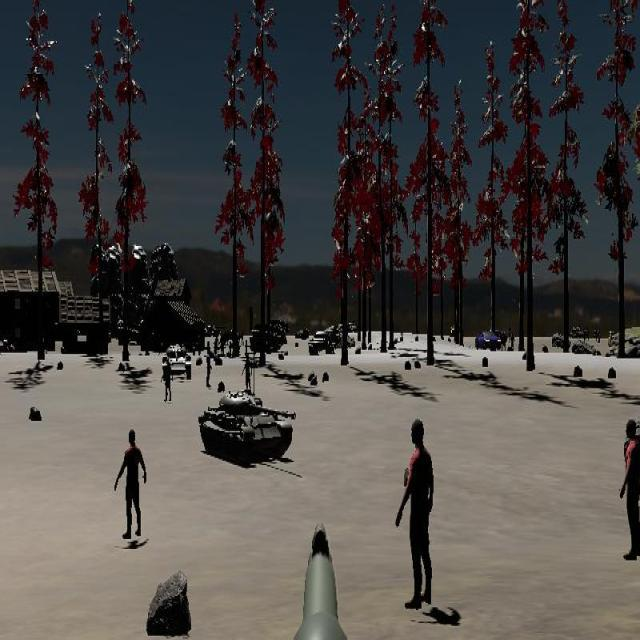Tank: (198, 389, 296, 466), (162, 343, 192, 382)
